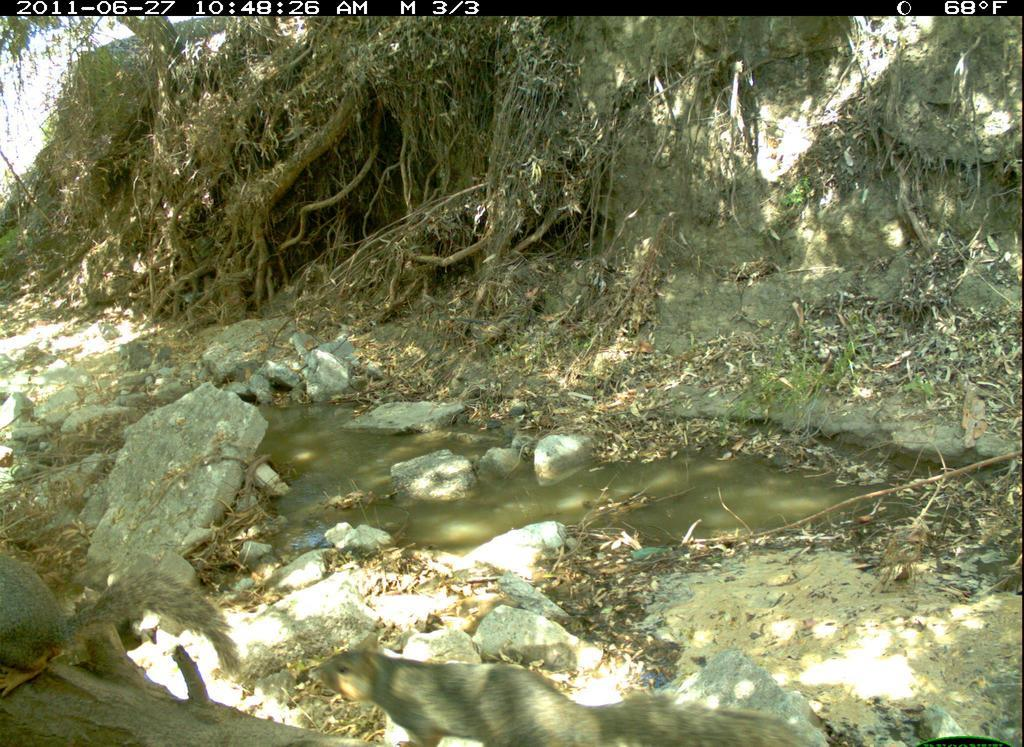squirrel: (309, 626, 815, 747), (2, 532, 240, 713)
